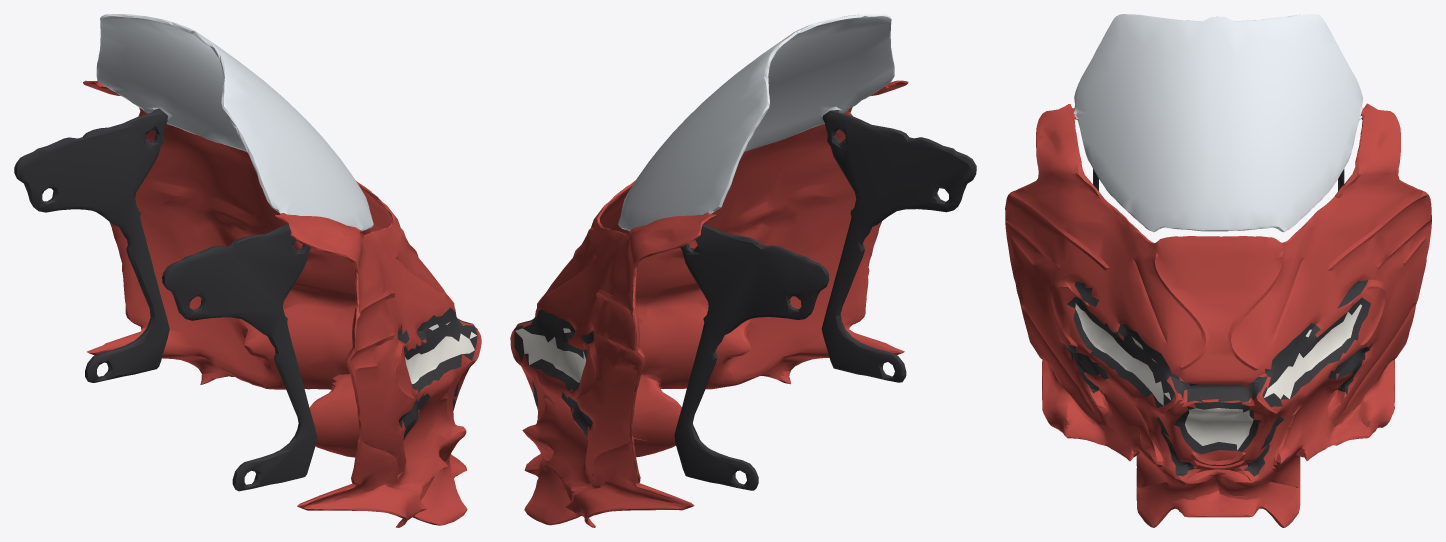
File: naked_3_lod1.glb
3 views of the same model, side by side, from view 1: azimuth 30°, elevation 25°; view 2: azimuth 150°, elevation 25°; view 3: azimuth 270°, elevation 25° (orthographic). The views are drawn at different scales.
Parts seen in each view (by area): view 1: naked_3_lod1; view 2: naked_3_lod1; view 3: naked_3_lod1.
Boxes of the visible parts, box(x1,y1,x2,y2) form: naked_3_lod1: box(14, 14, 481, 527); naked_3_lod1: box(510, 14, 976, 527); naked_3_lod1: box(1005, 14, 1431, 527).
Size of the model in its own units: 0.3424 by 0.4529 by 0.4168.
